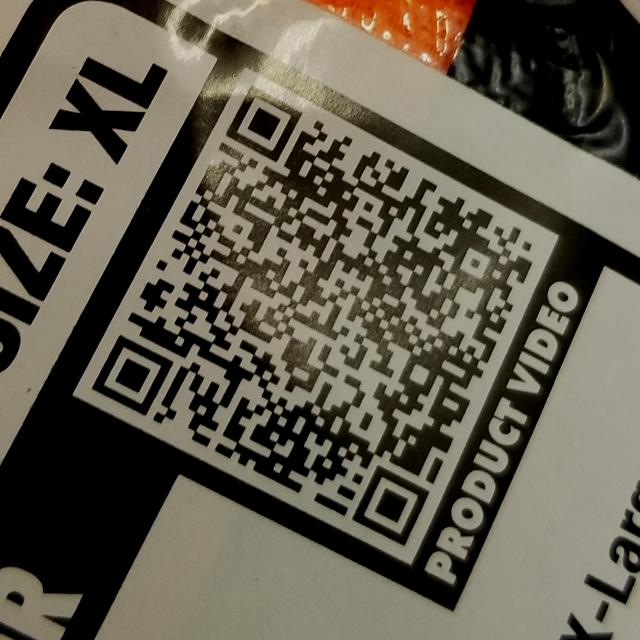QRCode: (82, 69, 551, 561)
